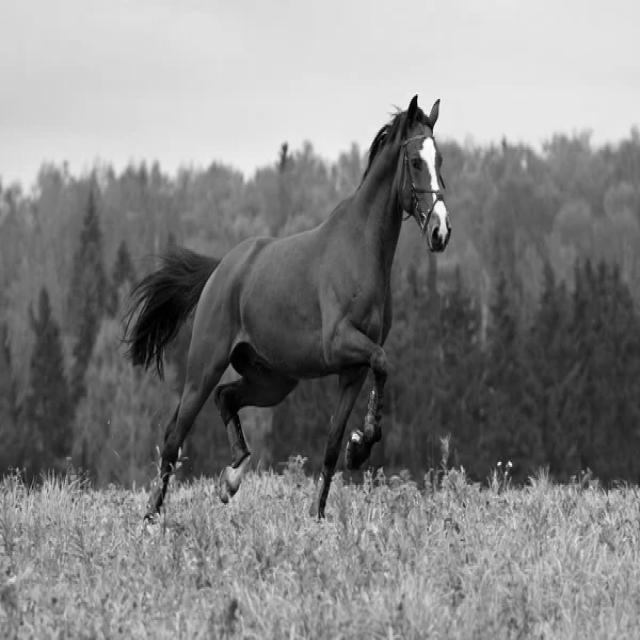Animal: (125, 96, 451, 520)
